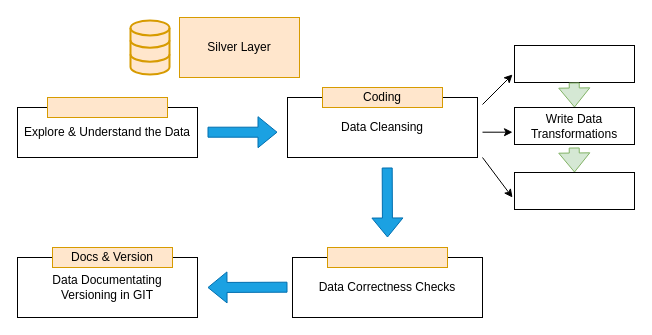
This 652x335 diagram has some shape labels left out. The shapes that lost their labels are listed below. From the top down, each one's centre as x and y in pixels, then its label:
At [574,63]: "Check Quality of Bronze".
At [107,107]: "Analyzing".
At [574,191]: "Insert into Silver".
At [387,257]: "Validating".
